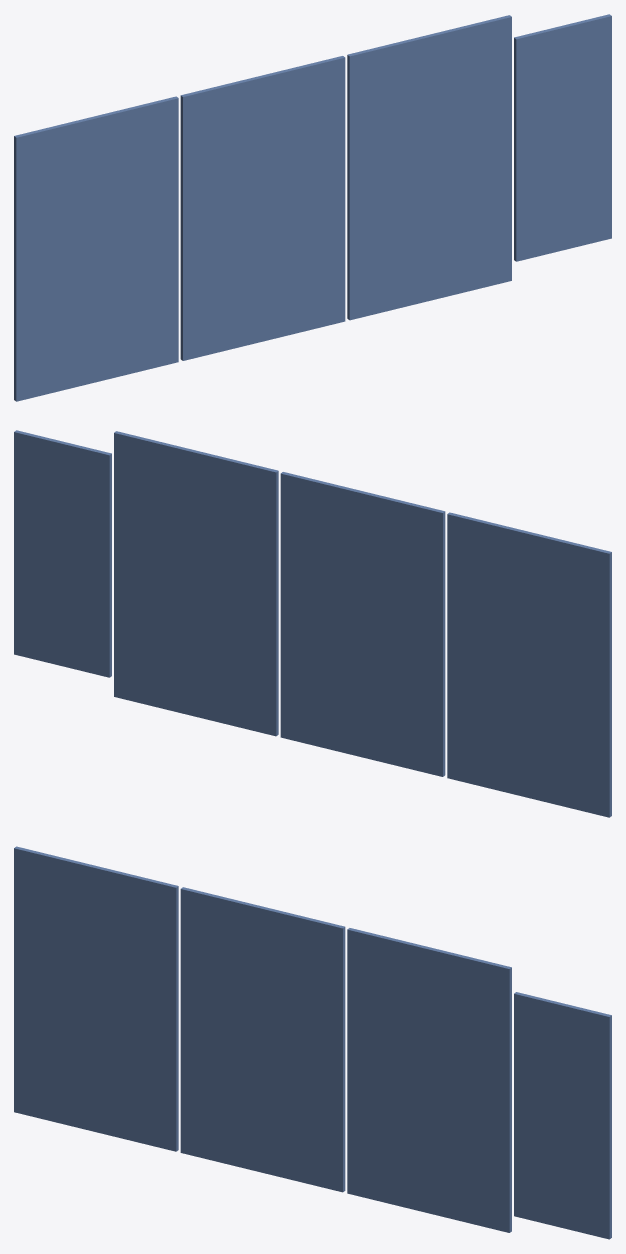
Rendered from JA3_Victron190_transversal.glb.
The picture shows the model from 3 angles, top to bottom: view 1: azimuth 30°, elevation 25°; view 2: azimuth 150°, elevation 25°; view 3: azimuth 330°, elevation 25°; orthographic projection.
Parts seen in each view (by area): view 1: PV__1_JA_1, PV__2_JA_2, PV__0_JA_0, PV__3_190W; view 2: PV__1_JA_1, PV__2_JA_2, PV__0_JA_0, PV__3_190W; view 3: PV__1_JA_1, PV__0_JA_0, PV__2_JA_2, PV__3_190W.
Part boxes in pixels (bbox=[...]): PV__1_JA_1: bbox=[180, 56, 345, 360]; PV__2_JA_2: bbox=[347, 15, 511, 320]; PV__0_JA_0: bbox=[14, 96, 178, 401]; PV__3_190W: bbox=[514, 14, 611, 261]; PV__1_JA_1: bbox=[280, 472, 445, 776]; PV__2_JA_2: bbox=[114, 431, 278, 736]; PV__0_JA_0: bbox=[447, 512, 611, 817]; PV__3_190W: bbox=[14, 430, 111, 677]; PV__1_JA_1: bbox=[180, 887, 345, 1192]; PV__0_JA_0: bbox=[14, 846, 178, 1151]; PV__2_JA_2: bbox=[347, 928, 511, 1232]; PV__3_190W: bbox=[514, 992, 611, 1239].
Size of the model in its own units: 4.16 by 1.76 by 0.03.
